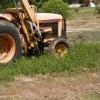Tractor: (5, 1, 75, 68)
